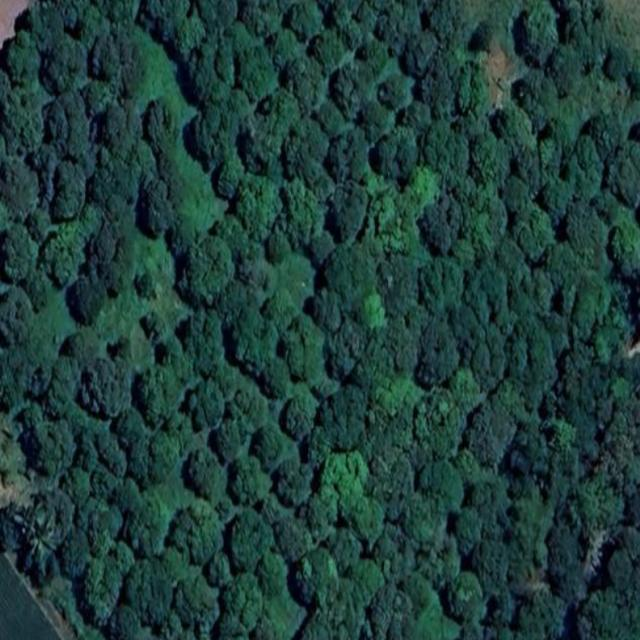Tree: (316, 450, 392, 553), (20, 405, 76, 477), (323, 243, 374, 315), (562, 0, 609, 77), (313, 389, 367, 456), (570, 474, 624, 539), (232, 173, 282, 241), (186, 234, 235, 300), (229, 310, 278, 375), (76, 491, 126, 553), (416, 390, 464, 454), (79, 426, 125, 492), (227, 509, 274, 573), (186, 43, 230, 111), (174, 503, 220, 568), (98, 148, 146, 210), (104, 96, 144, 170), (565, 201, 607, 271), (572, 268, 614, 338), (185, 312, 229, 378), (466, 188, 508, 256), (278, 320, 324, 382), (526, 320, 559, 406), (84, 359, 128, 423), (129, 489, 171, 556), (477, 261, 516, 333), (419, 320, 460, 388), (424, 122, 468, 185), (515, 66, 561, 126), (81, 551, 120, 621), (218, 574, 259, 640), (420, 459, 466, 517), (324, 320, 367, 382), (240, 124, 284, 183), (286, 124, 327, 187), (124, 559, 167, 619), (374, 192, 414, 256), (548, 530, 584, 601), (172, 576, 216, 634), (50, 159, 89, 224), (401, 493, 445, 550), (518, 8, 561, 66), (68, 278, 114, 332), (45, 38, 87, 96), (301, 545, 340, 607), (374, 454, 409, 523), (418, 258, 460, 315), (334, 180, 370, 246), (136, 180, 176, 239), (602, 141, 640, 203), (585, 111, 627, 167), (116, 411, 150, 480), (48, 360, 85, 423), (379, 314, 419, 372), (36, 486, 76, 544), (282, 182, 320, 243), (58, 86, 86, 167), (375, 255, 414, 313), (493, 102, 534, 157), (420, 200, 461, 255), (142, 0, 192, 45), (491, 382, 536, 432), (191, 108, 226, 172), (560, 341, 596, 402), (212, 215, 255, 265), (545, 36, 582, 94), (377, 533, 418, 585), (447, 566, 485, 622), (516, 205, 553, 262), (472, 539, 509, 596), (98, 237, 134, 295), (287, 56, 324, 112), (473, 132, 510, 188), (376, 2, 412, 59), (463, 408, 501, 462), (145, 98, 179, 158), (300, 482, 339, 534), (238, 46, 274, 102), (518, 592, 560, 640), (156, 351, 194, 404), (143, 423, 177, 482), (457, 276, 494, 330), (22, 514, 57, 571), (265, 90, 305, 139), (566, 154, 602, 208), (380, 130, 417, 182), (456, 61, 488, 121), (42, 234, 80, 284), (474, 473, 507, 530), (310, 29, 348, 78), (154, 152, 187, 208), (229, 458, 269, 504), (534, 128, 568, 182), (544, 246, 582, 294), (364, 585, 398, 638), (348, 555, 384, 605), (421, 57, 454, 110), (401, 31, 438, 78), (452, 504, 484, 558), (421, 3, 462, 45), (326, 528, 364, 573), (56, 527, 89, 578), (211, 278, 250, 321), (33, 5, 64, 59), (277, 513, 310, 563), (332, 70, 365, 120), (190, 378, 223, 428), (210, 414, 245, 461), (242, 1, 282, 42), (194, 0, 238, 37), (256, 355, 290, 402), (448, 304, 484, 348), (324, 135, 354, 185), (263, 286, 297, 330), (447, 363, 481, 407), (540, 180, 574, 224), (282, 392, 315, 437), (255, 550, 287, 596), (77, 7, 109, 53), (355, 291, 389, 334), (612, 219, 640, 271), (175, 7, 203, 59), (401, 570, 434, 614), (248, 426, 282, 468), (44, 95, 70, 149), (290, 3, 326, 42), (219, 88, 253, 129), (348, 54, 378, 100), (140, 367, 166, 420), (314, 97, 346, 140), (203, 547, 234, 591), (91, 34, 120, 81), (446, 232, 479, 273), (345, 130, 370, 184), (312, 288, 344, 330), (486, 326, 509, 384), (88, 227, 119, 270), (598, 438, 632, 477), (277, 460, 308, 502), (595, 324, 626, 366), (82, 74, 114, 113), (517, 152, 545, 196), (380, 73, 413, 110), (112, 605, 146, 640), (272, 30, 301, 71), (359, 100, 387, 142), (544, 415, 574, 453), (573, 134, 601, 174), (114, 481, 144, 518), (438, 532, 461, 580), (503, 175, 530, 215), (601, 46, 629, 84), (608, 546, 632, 590), (469, 344, 493, 388), (405, 98, 432, 137), (163, 216, 190, 254), (360, 39, 388, 74), (66, 469, 94, 504), (186, 451, 210, 491), (509, 332, 531, 375), (215, 45, 238, 86), (219, 160, 243, 199), (61, 332, 87, 368), (102, 0, 132, 31), (504, 442, 531, 476), (310, 232, 336, 266), (340, 17, 366, 51), (265, 232, 292, 264), (255, 612, 284, 640), (229, 22, 252, 57), (326, 3, 353, 32), (620, 521, 640, 560), (143, 310, 168, 341), (604, 413, 628, 444), (472, 22, 495, 54), (355, 2, 378, 32), (228, 391, 252, 415), (114, 335, 135, 360), (612, 377, 630, 404), (497, 620, 513, 640)
